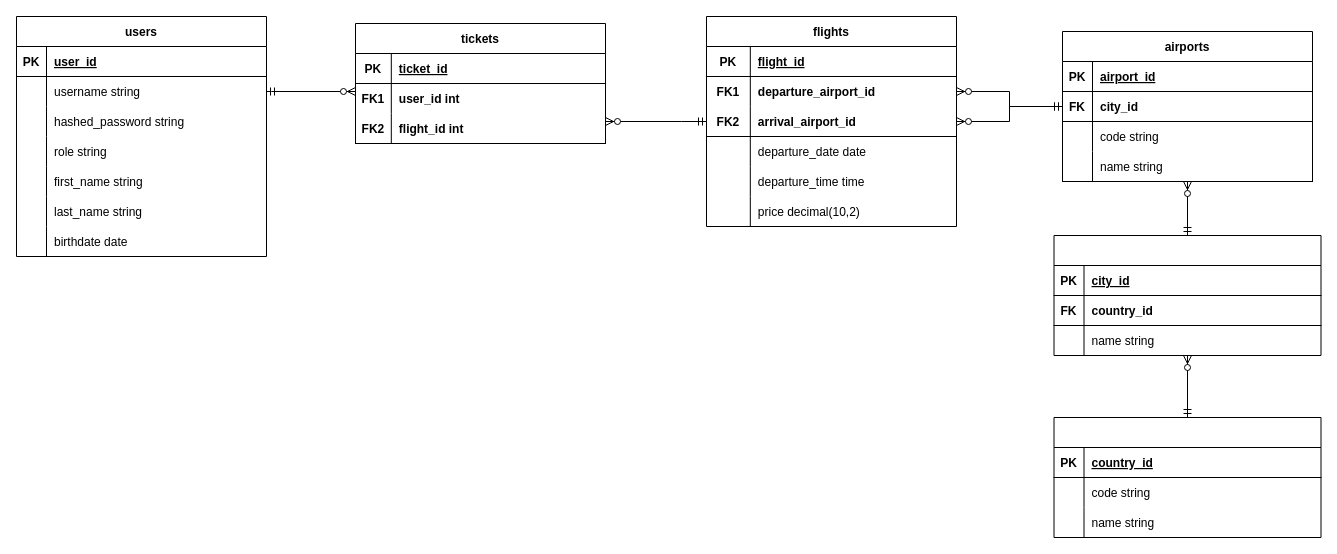
The diagram is 1337 pixels wide and 554 high, and some of its shapes have lost their labels. The box of each missing label's shape, as (x1, y1, x2, y2) in pixels:
cities: (1053, 234, 1321, 356)
countries: (1053, 416, 1321, 538)
